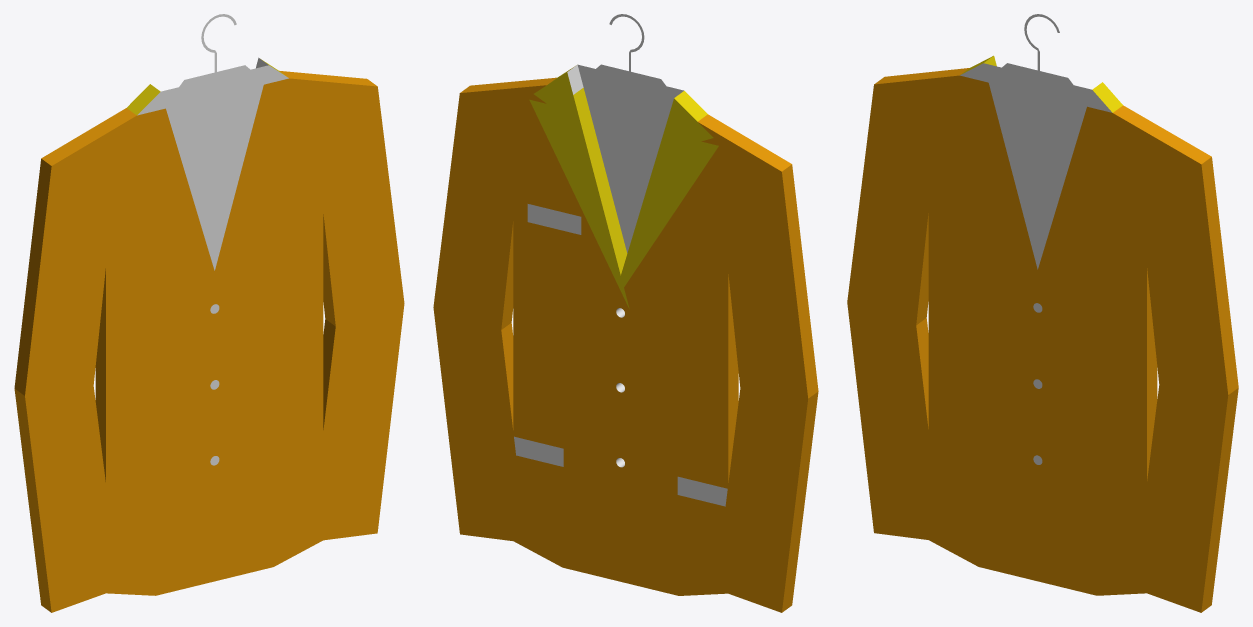
File: jacket-yellow.dae
3 views of the same model, side by side, from view 1: azimuth 30°, elevation 25°; view 2: azimuth 150°, elevation 25°; view 3: azimuth 330°, elevation 25° (orthographic).
Parts seen in each view (by area): view 1: SketchUp_017, SketchUp_003, SketchUp, SketchUp_001, SketchUp_014; view 2: SketchUp_003, SketchUp_008, SketchUp, SketchUp_001, SketchUp_007, SketchUp_010, SketchUp_011, SketchUp_014; view 3: SketchUp_017, SketchUp, SketchUp_004, SketchUp_003, SketchUp_001, SketchUp_014, SketchUp_008.
Boxes of the visible parts, bbox=[...] form: SketchUp_017: bbox=[25, 78, 404, 612]; SketchUp_003: bbox=[14, 70, 376, 612]; SketchUp: bbox=[166, 84, 263, 270]; SketchUp_001: bbox=[161, 65, 268, 108]; SketchUp_014: bbox=[179, 14, 249, 86]; SketchUp_003: bbox=[433, 77, 818, 612]; SketchUp_008: bbox=[529, 66, 718, 308]; SketchUp: bbox=[582, 84, 671, 252]; SketchUp_001: bbox=[577, 64, 683, 105]; SketchUp_007: bbox=[527, 204, 581, 234]; SketchUp_010: bbox=[677, 476, 727, 506]; SketchUp_011: bbox=[514, 436, 563, 466]; SketchUp_014: bbox=[596, 14, 665, 85]; SketchUp_017: bbox=[847, 75, 1228, 612]; SketchUp: bbox=[989, 83, 1086, 269]; SketchUp_004: bbox=[1201, 157, 1238, 612]; SketchUp_003: bbox=[874, 68, 1211, 480]; SketchUp_001: bbox=[983, 63, 1091, 106]; SketchUp_014: bbox=[1002, 14, 1073, 84]; SketchUp_008: bbox=[961, 55, 1122, 112].
Bounding box in the file's own units: 0.532 × 0.0254 × 0.7578.
